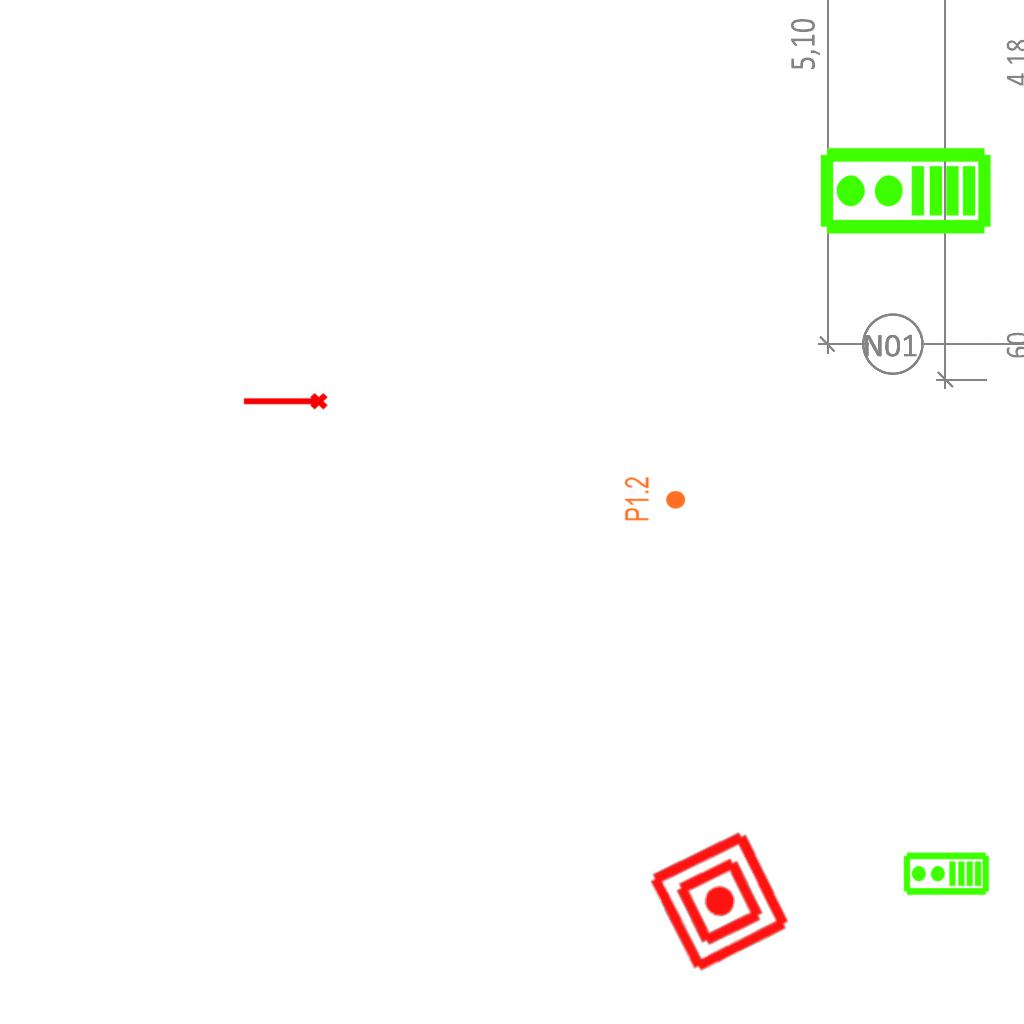ASR_Ansaugoeffnung: (241, 391, 329, 414)
Downlight_LED_Einbauleuchten_Flur: (623, 476, 687, 522)
Gegensprechanlage_mit_Video: (817, 145, 993, 240), (902, 851, 990, 898)
NAM-Nichtautomatischer_Melder: (643, 825, 796, 978)
